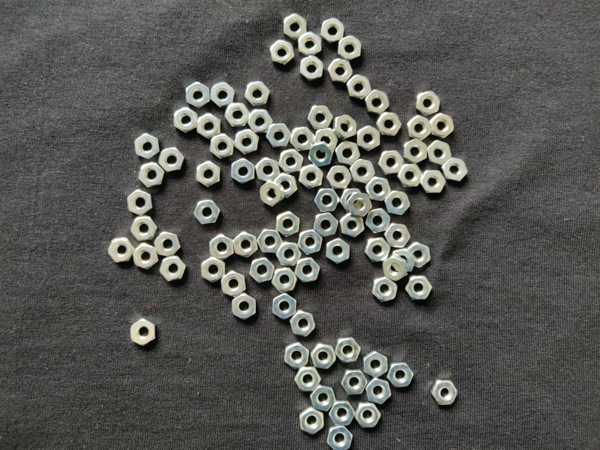nut: (299, 407, 325, 436), (310, 385, 337, 412), (310, 343, 337, 370), (334, 337, 361, 364), (341, 369, 368, 396), (387, 362, 415, 388), (431, 380, 459, 406), (132, 243, 158, 270), (134, 133, 160, 160), (154, 232, 181, 258), (160, 256, 187, 282), (221, 271, 247, 298), (329, 401, 356, 427), (366, 378, 392, 405), (384, 190, 411, 216), (384, 223, 411, 249), (382, 254, 408, 281), (130, 319, 155, 347), (139, 162, 165, 188), (158, 147, 184, 173), (272, 268, 298, 294), (355, 403, 381, 429), (295, 258, 321, 284), (365, 89, 391, 115), (346, 74, 372, 100), (427, 140, 453, 166), (108, 238, 135, 263), (194, 200, 221, 225), (233, 232, 258, 259), (291, 311, 316, 338), (295, 367, 322, 392), (363, 351, 388, 378), (378, 150, 405, 175), (442, 158, 469, 183), (326, 426, 354, 450), (405, 276, 433, 300), (131, 217, 157, 242), (127, 190, 152, 216), (211, 82, 236, 108), (245, 81, 270, 107), (278, 149, 304, 174), (314, 212, 339, 238), (299, 164, 324, 190), (309, 141, 334, 167), (328, 58, 354, 83), (350, 159, 376, 184), (340, 213, 365, 239), (366, 177, 392, 202), (372, 277, 398, 302), (403, 138, 428, 164), (430, 113, 455, 139), (232, 293, 256, 320), (210, 234, 234, 261), (196, 161, 220, 188), (186, 82, 210, 109), (197, 113, 221, 140), (273, 293, 297, 320), (285, 343, 309, 370), (231, 158, 255, 185), (247, 109, 274, 133), (257, 230, 284, 254), (260, 180, 284, 207), (376, 112, 403, 136), (346, 193, 373, 217), (397, 164, 424, 188), (250, 258, 275, 283), (235, 129, 260, 154), (298, 230, 323, 255), (290, 127, 315, 152), (320, 18, 345, 43), (270, 40, 295, 65), (366, 209, 391, 234), (174, 108, 198, 134), (210, 133, 234, 159), (225, 103, 251, 127), (266, 124, 292, 148), (326, 238, 350, 264), (307, 105, 333, 129), (357, 125, 381, 151), (338, 35, 362, 61), (335, 141, 361, 165), (365, 238, 391, 262), (392, 248, 418, 272), (408, 115, 432, 141), (420, 170, 446, 194), (314, 189, 341, 212), (276, 212, 300, 237), (256, 158, 281, 182), (274, 173, 298, 198), (333, 115, 357, 140), (300, 56, 324, 81), (416, 91, 440, 116), (202, 257, 225, 283), (276, 243, 302, 266), (284, 14, 307, 40), (326, 166, 352, 189), (408, 242, 430, 269), (314, 128, 338, 152), (298, 32, 322, 56), (340, 189, 363, 213)
